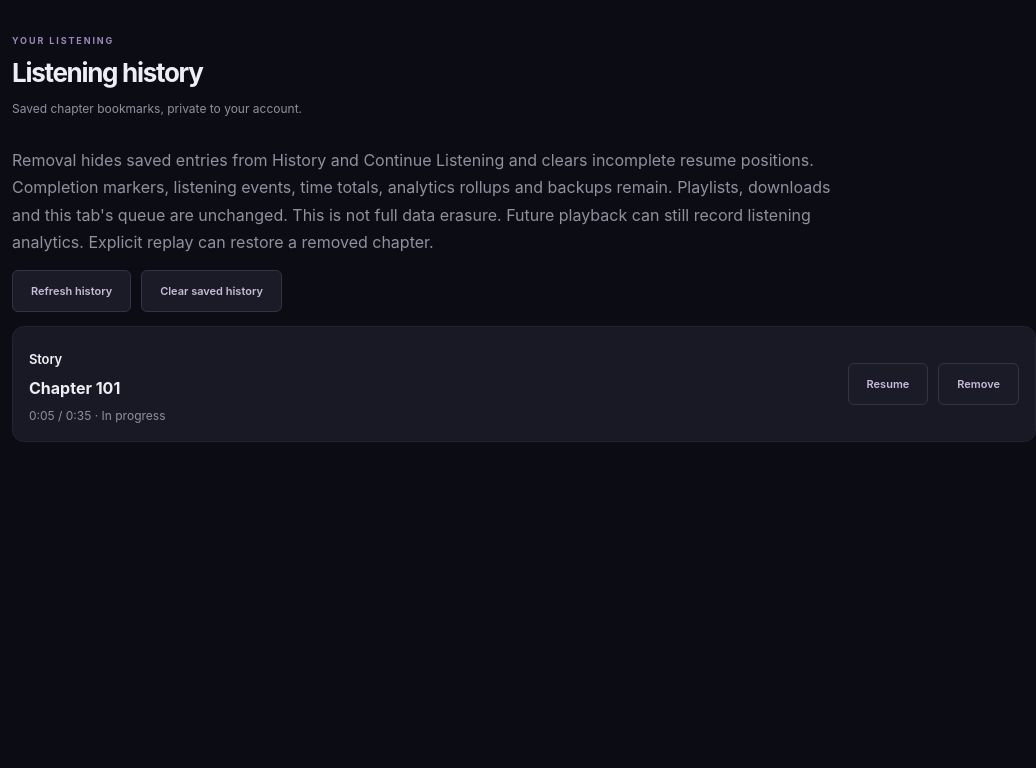
Scenario: requires confirmation and refreshes history after individual removal
Expected: the text "Chapter 101" is shown, [29,378,120,398]
Click the button with aria-label "Remove Chapter 101 from history" at (979, 384), box [938,363,1019,405]
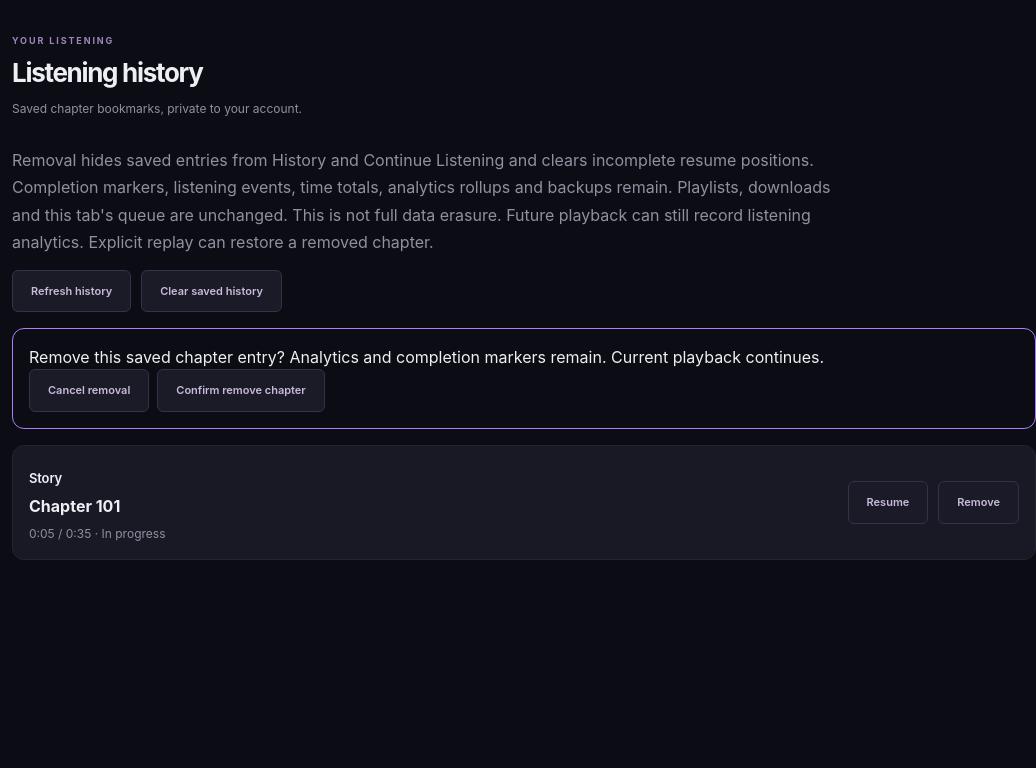
Click the button "Cancel removal" at (89, 391), box [29,369,149,412]
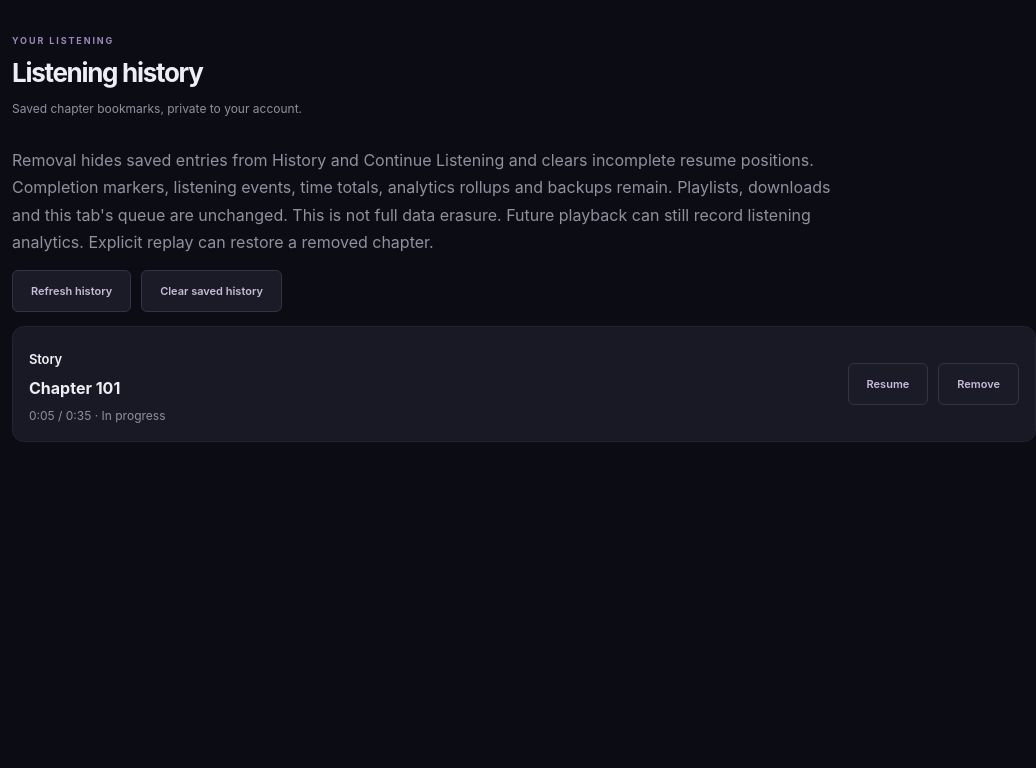
Click the button with aria-label "Remove Chapter 101 from history" at (979, 384), box [938,363,1019,405]
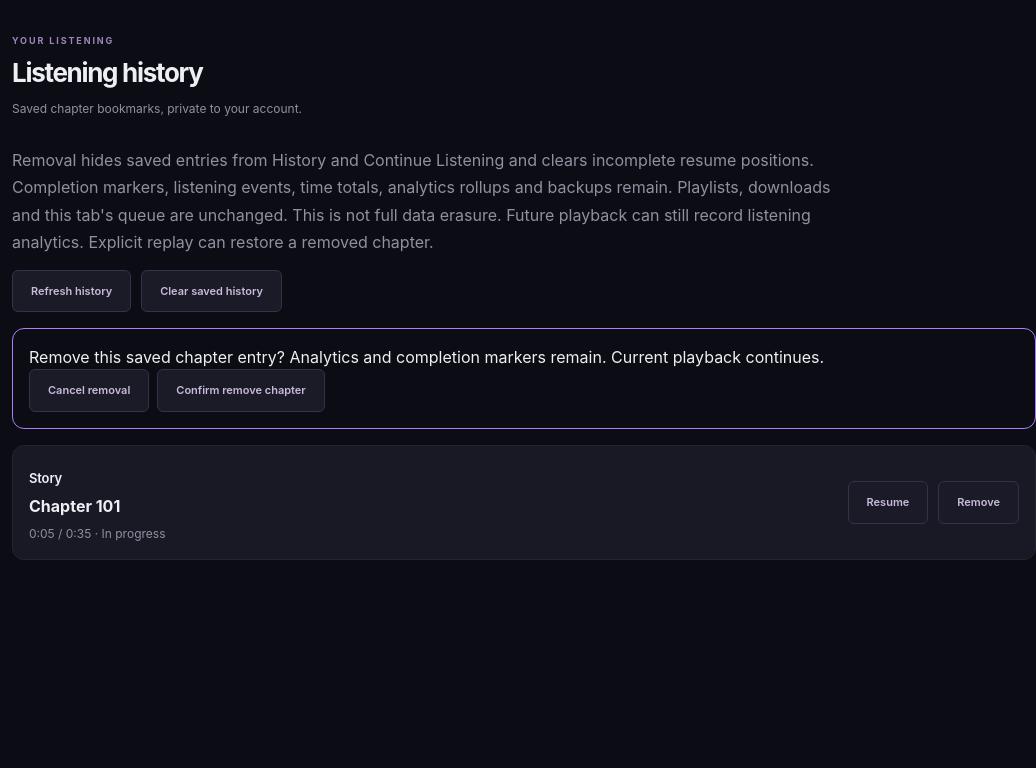
Click the button "Confirm remove chapter" at (241, 391), box [157,369,325,412]
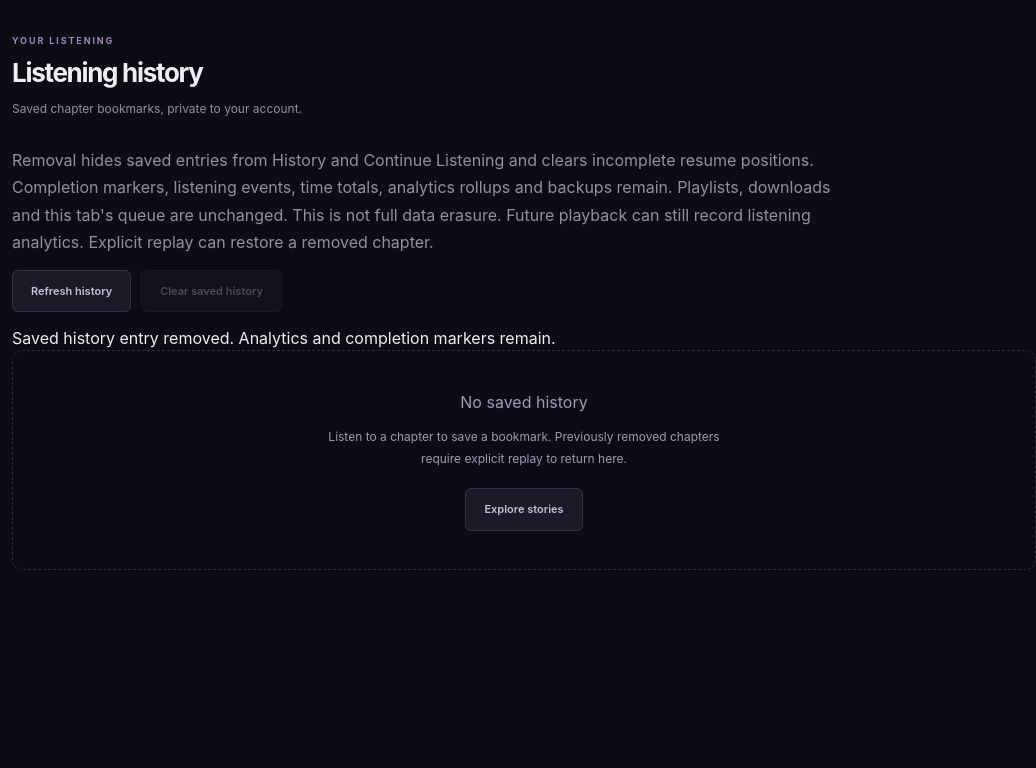
Expected: the heading "No saved history" is shown, [460,390,588,414]
